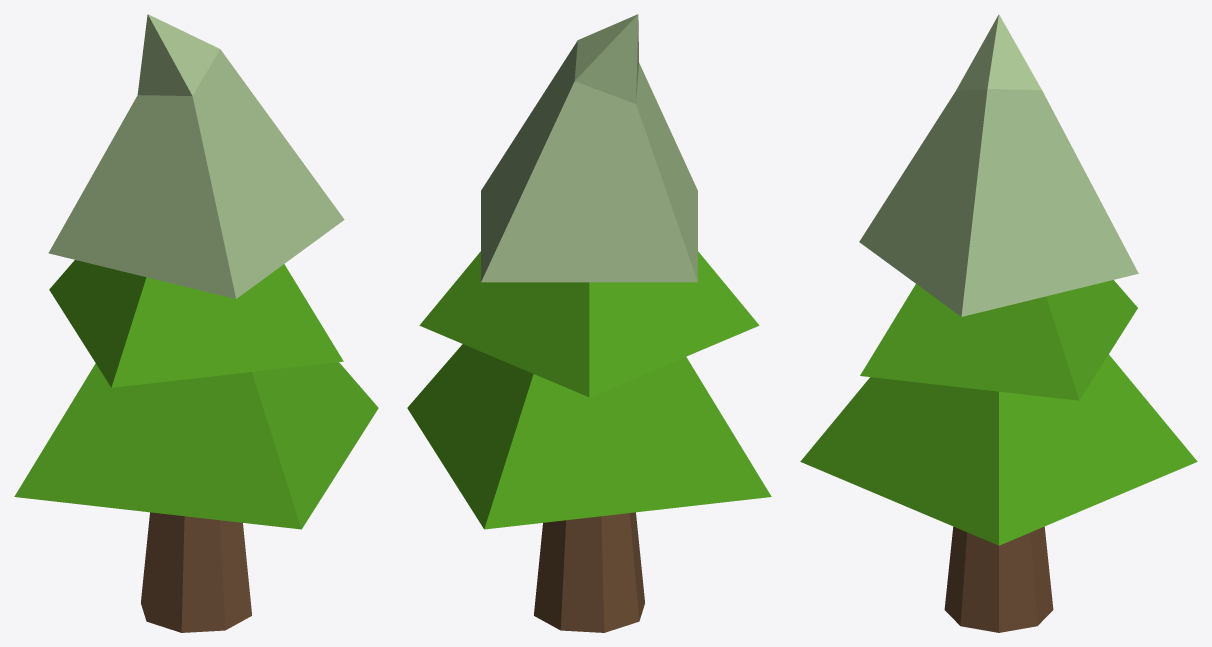
File: Isl_15_Tree_2.fbx
3 renders of one model, left to right at view 1: azimuth 30°, elevation 25°; view 2: azimuth 150°, elevation 25°; view 3: azimuth 270°, elevation 25°, orthographic. The views are drawn at different scales.
Visible parts, largest first — view 1: Isl_15_Tree_2; view 2: Isl_15_Tree_2; view 3: Isl_15_Tree_2.
Boxes of the visible parts, bbox=[...] form: Isl_15_Tree_2: bbox=[14, 14, 378, 632]; Isl_15_Tree_2: bbox=[407, 14, 771, 632]; Isl_15_Tree_2: bbox=[800, 14, 1197, 632].
Bounding box in the file's own units: 434 × 434 × 692.
Materials: 1 (1 with a texture image).
